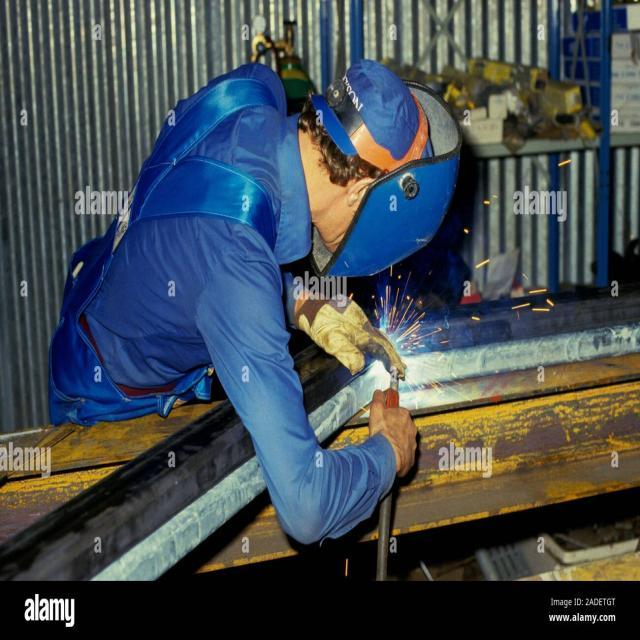with_helmet: (314, 83, 461, 276)
